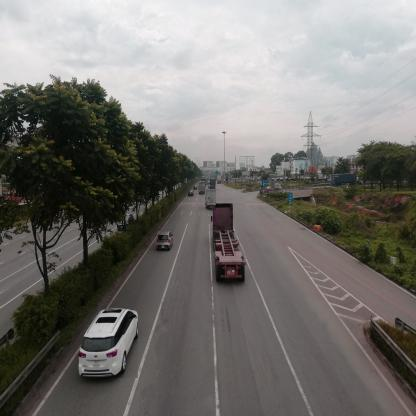car: (78, 309, 139, 379), (158, 232, 173, 250), (265, 187, 272, 195), (190, 192, 196, 198)
container: (214, 205, 246, 288), (332, 174, 364, 189)
truck: (206, 190, 217, 210), (273, 182, 284, 193), (199, 183, 206, 195)
